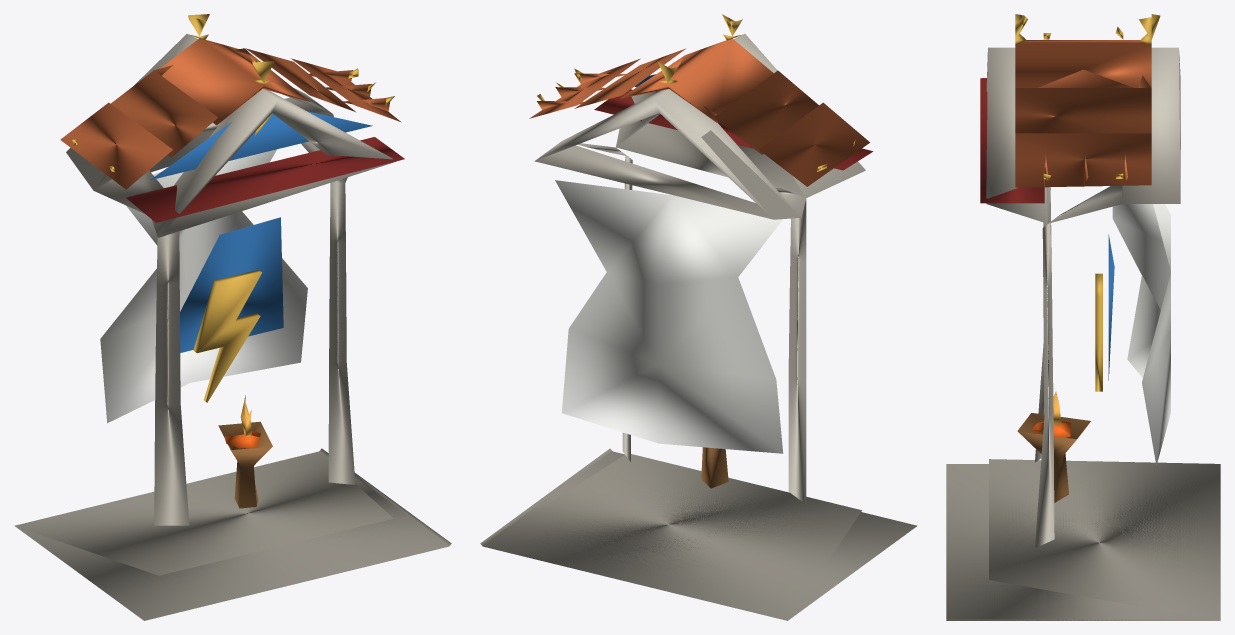
File: decor_shrine.glb
The picture shows the model from 3 angles, left to right: view 1: azimuth 30°, elevation 25°; view 2: azimuth 150°, elevation 25°; view 3: azimuth 270°, elevation 25°; orthographic projection. The views are drawn at different scales.
Parts seen in each view (by area): view 1: step, marble, hall, paint_azure, paint_red, terracotta0, terracotta1, terracotta2, gold, bronze; view 2: hall, step, marble, terracotta0, terracotta1, terracotta2, paint_red, bronze, gold; view 3: step, marble, hall, terracotta0, terracotta1, terracotta2, bronze, gold, paint_red, paint_azure.
Boxes of the visible parts, x1,y1,x2,y2 form: step: (14,448,451,620); marble: (66,34,396,525); hall: (100,149,307,422); paint_azure: (150,111,372,352); paint_red: (126,137,404,222); terracotta0: (60,58,401,189); terracotta1: (110,48,371,157); terracotta2: (160,38,352,125); gold: (72,14,394,402); bronze: (218,421,272,508); hall: (555,180,783,453); step: (480,448,917,620); marble: (534,34,865,504); terracotta0: (529,58,869,186); terracotta1: (555,48,818,154); terracotta2: (537,38,773,122); paint_red: (594,89,873,170); bronze: (701,447,728,488); gold: (537,14,855,171); step: (946,459,1220,620); marble: (986,47,1180,547); hall: (1112,204,1170,465); terracotta0: (1015,40,1151,187); terracotta1: (1015,41,1151,185); terracotta2: (1015,42,1151,186); bronze: (1017,413,1090,502); gold: (1015,14,1160,391); paint_red: (980,78,1044,203); paint_azure: (1108,234,1114,380).
Bounding box in the file's own units: 1.93 × 2.97 × 1.41.
